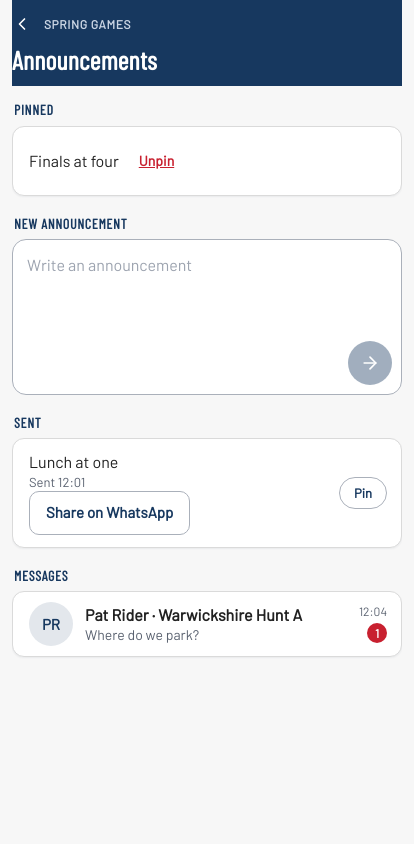
Test: AnnouncementsPage › sends an announcement, marks it as just sent and keeps the draft while typing
In the text box with placeholder "Write an announcement": (207, 317) [12, 239, 402, 395], type "Parking in field two"
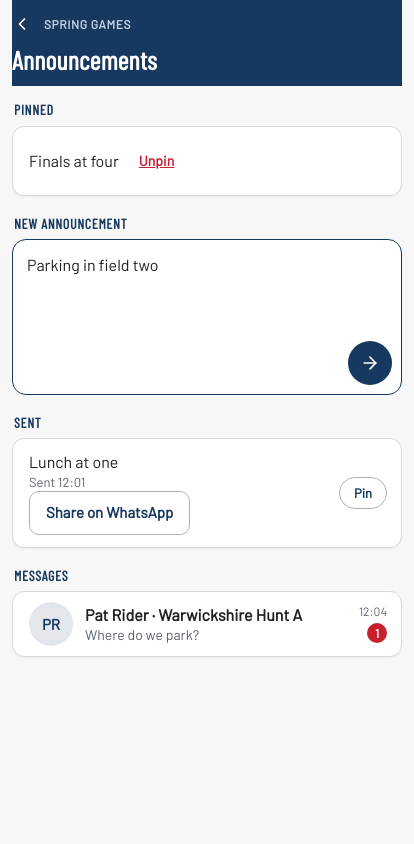
Click the button named "Send": (370, 363) [348, 341, 392, 385]
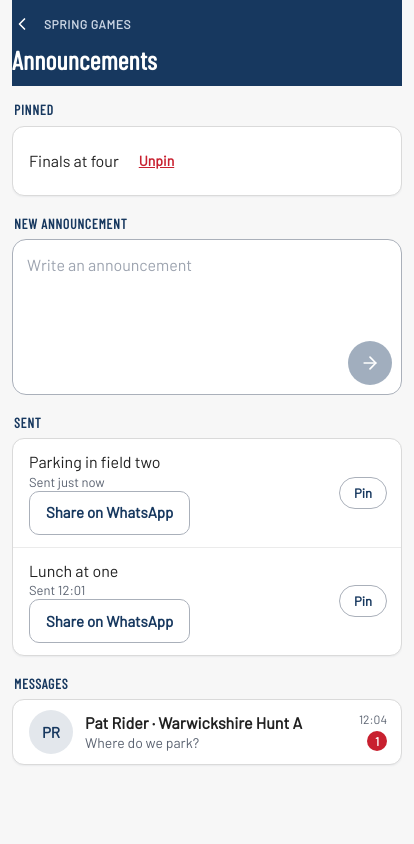
Check: the text "Sent just now" is shown, box [29, 474, 105, 490]
Check: the text box with placeholder "Write an announcement" is empty, box [12, 239, 402, 395]
